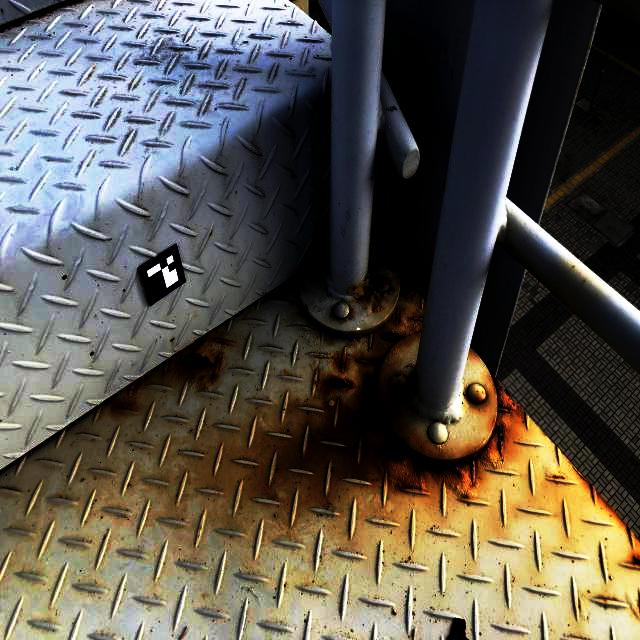Corrosion: (320, 269, 522, 500), (168, 327, 227, 389), (357, 258, 392, 311), (107, 377, 143, 411), (269, 279, 290, 296), (632, 556, 640, 566), (414, 372, 418, 391), (395, 373, 403, 378)
